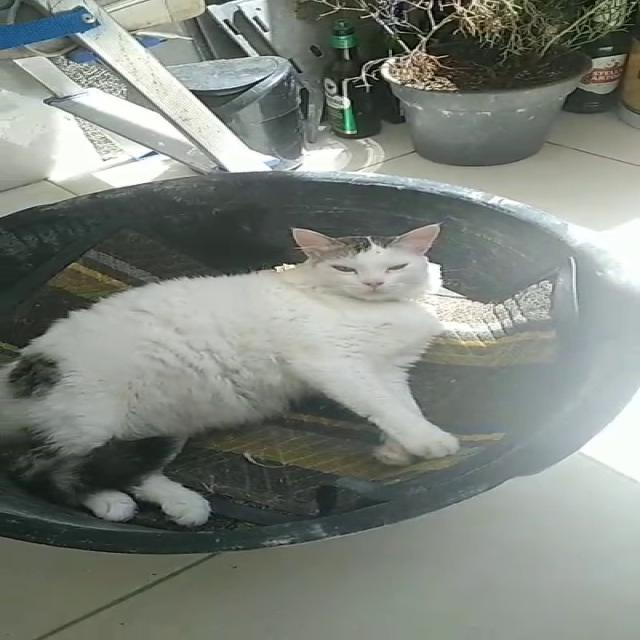Simba: (2, 181, 472, 548)
